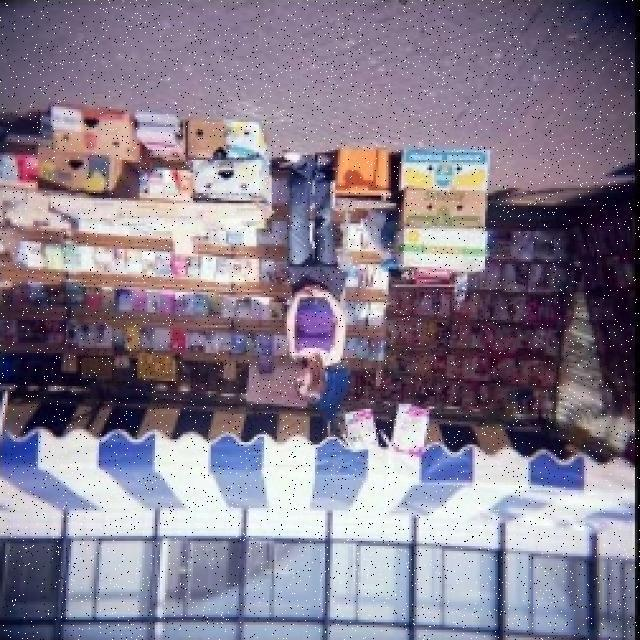box: (26, 143, 135, 198), (386, 220, 478, 278), (399, 147, 504, 195), (183, 157, 271, 210), (50, 106, 132, 162), (391, 189, 491, 227), (182, 120, 226, 158), (220, 120, 260, 158)
